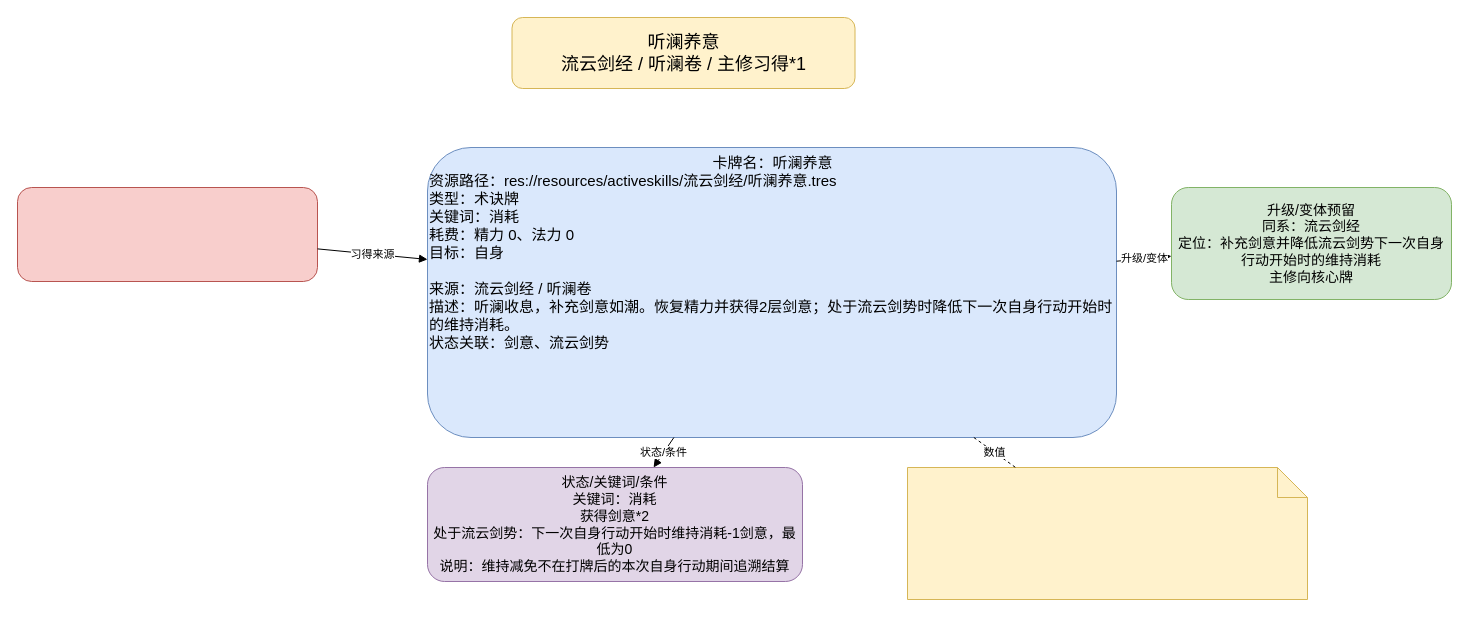
The diagram is 1469 pixels wide and 617 high, and some of its shapes have lost their labels. The shapes that lost their labels are listed below. From the top down, each one's centre as x and y in pixels, then its label:
the point at 167,234: 习得来源 来源秘籍：流云剑经 来源卷：听澜卷 主修习得数量：1
the point at 1107,533: 数值摘要 回复精力：10 + 剑道造诣*0.24 + 敏捷*0.12 剑意：+2 维持减免：剑意消耗-1 消耗资源：无 可配置数量：1
